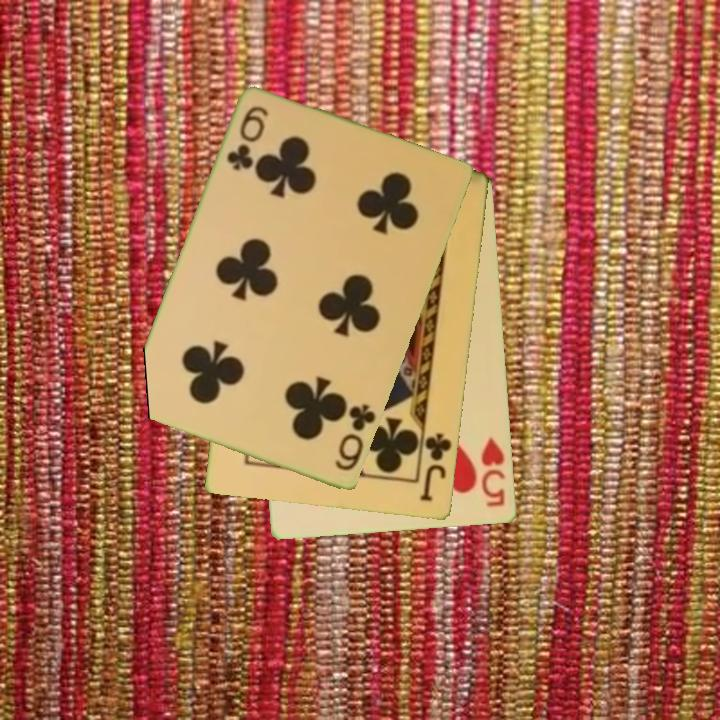5h: (478, 434, 509, 510)
6c: (331, 400, 379, 475), (223, 103, 272, 174)
Jc: (417, 430, 455, 505)
